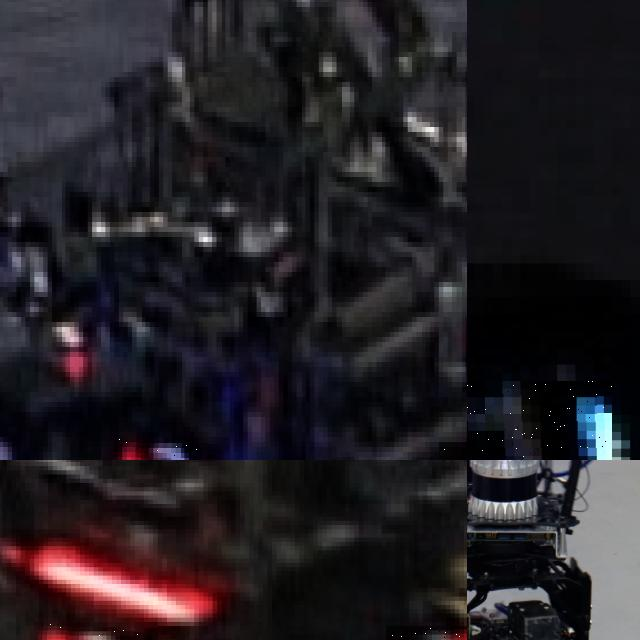B1: (467, 381, 612, 460)
R2: (105, 437, 229, 460), (34, 621, 157, 640)
